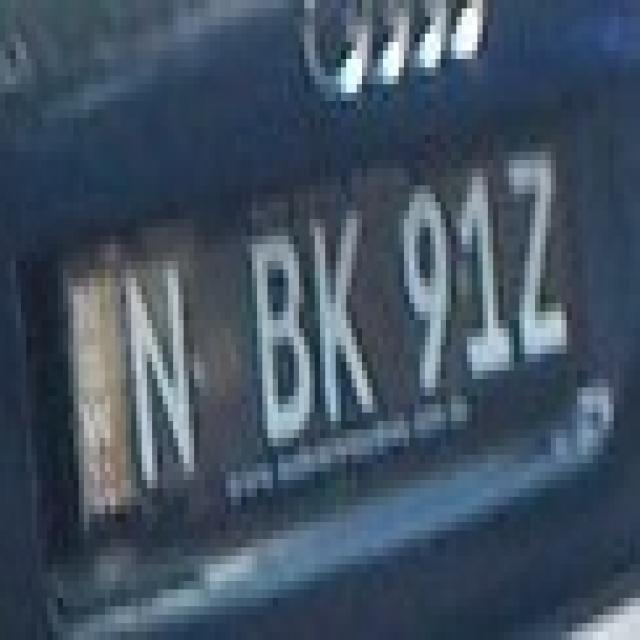licenseplate: (54, 91, 590, 586)
